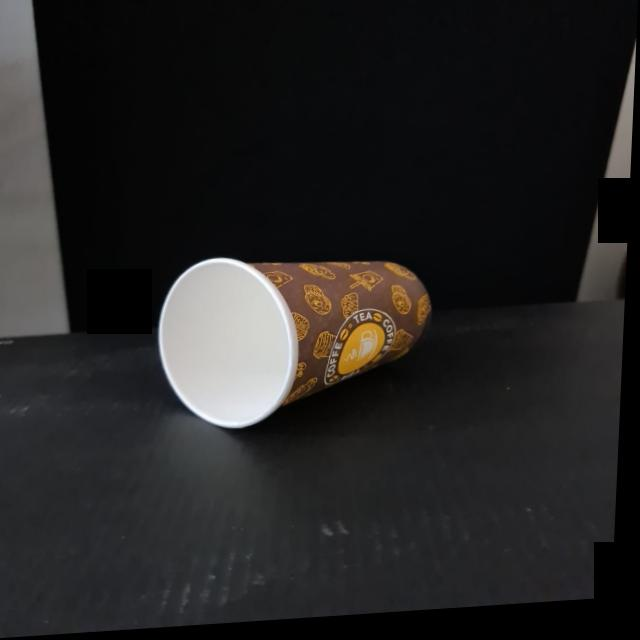cups: (143, 225, 450, 446)
